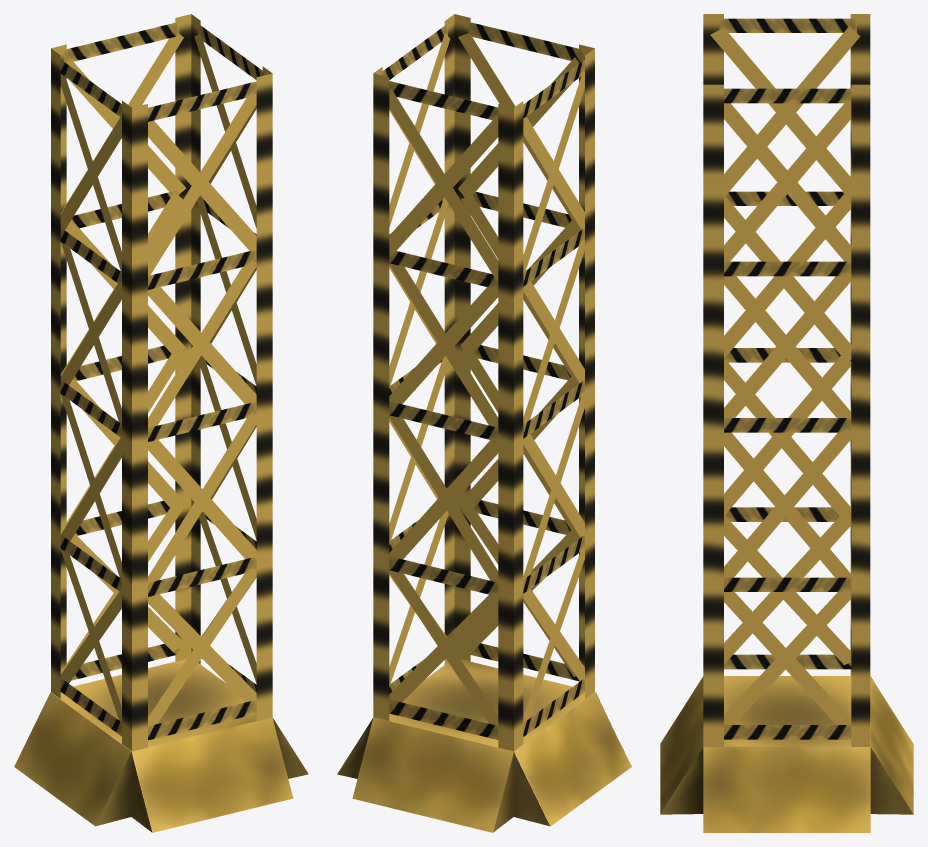
The model's file is torre 1.fbx.
3 views of the same model, side by side, from view 1: azimuth 30°, elevation 25°; view 2: azimuth 150°, elevation 25°; view 3: azimuth 270°, elevation 25° (orthographic). The views are drawn at different scales.
Parts seen in each view (by area): view 1: polySurface115; view 2: polySurface115; view 3: polySurface115.
Boxes of the visible parts, x1,y1,x2,y2 form: polySurface115: [14, 14, 308, 832]; polySurface115: [337, 14, 631, 832]; polySurface115: [660, 14, 913, 832].
Size of the model in its own units: 2.93 by 9.31 by 2.93.
Materials: 2 (2 with a texture image).
